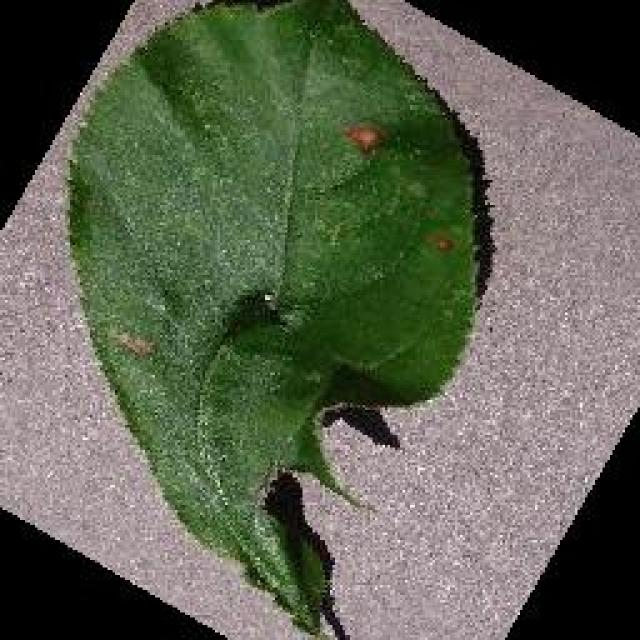Black_rot: (60, 0, 492, 638)
